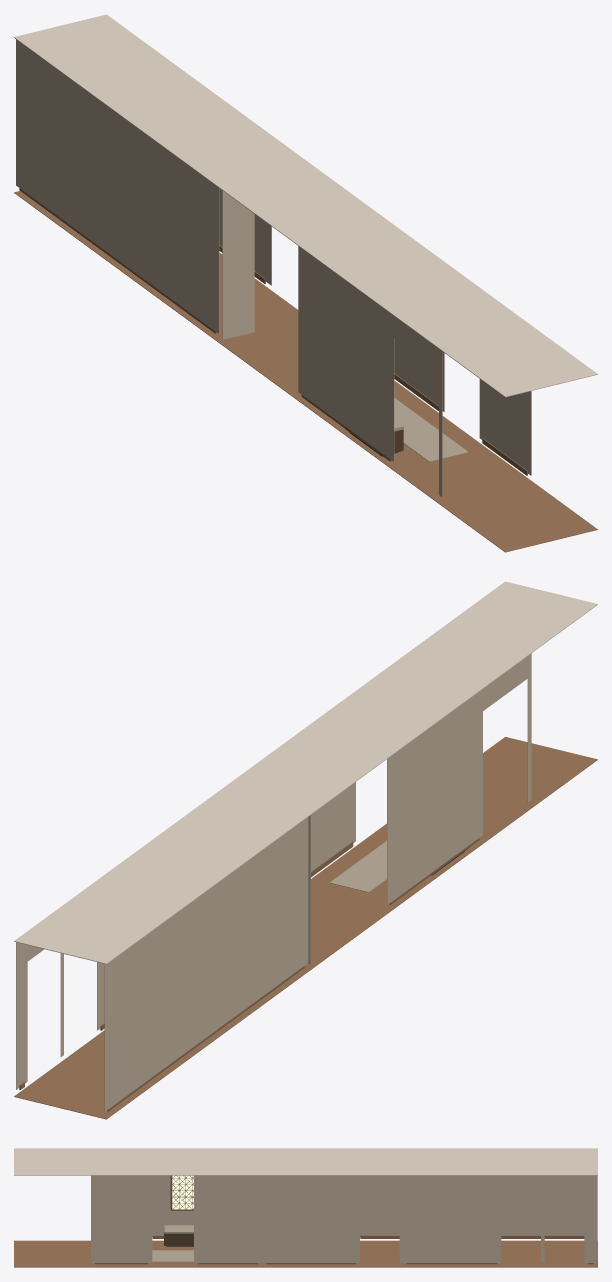
File: corridor-3.glb
3 views of the same model, one above another, from view 1: azimuth 30°, elevation 25°; view 2: azimuth 150°, elevation 25°; view 3: azimuth 270°, elevation 25° (orthographic). The views are drawn at different scales.
Visible parts, largest first — view 1: DESIGN | Entrance coordinated ceiling, DESIGN | Entrance paired wall finish, DESIGN | Entrance floor finish, DESIGN | Entrance paired wall finish.003, DESIGN | Arch approach finish, DESIGN | Entrance paired wall finish.013, DESIGN | Entrance quiet runner, DESIGN | Entrance paired wall finish.012, DESIGN | Entrance paired wall finish.006, DESIGN | Entrance paired wall finish.002; view 2: DESIGN | Entrance coordinated ceiling, DESIGN | Entrance paired wall finish, DESIGN | Entrance floor finish, DESIGN | Entrance paired wall finish.003, DESIGN | Entrance paired wall finish.012, DESIGN | Entrance paired wall finish.005, DESIGN | Entrance quiet runner, DESIGN | Entrance paired wall finish.002, DESIGN | Entrance paired wall finish.001; view 3: DESIGN | Entrance coordinated ceiling, DESIGN | Entrance paired wall finish.006, DESIGN | Entrance paired wall finish.009, DESIGN | Entrance floor finish, DESIGN | Entrance paired wall finish.012, DESIGN | Entrance paired wall finish, DESIGN | Entrance paired wall finish.013, DESIGN | Entrance paired wall finish.003, DESIGN | Entrance paired wall finish.005, DESIGN | Kumiko opal diffuser, DESIGN | Entrance paired wall finish.007, DESIGN | Entrance paired wall finish.010 (+8 smaller).
Part boxes in pixels (x1=…): DESIGN | Entrance coordinated ceiling: x1=14, y1=14, x2=597, y2=397; DESIGN | Entrance paired wall finish: x1=16, y1=39, x2=219, y2=333; DESIGN | Entrance floor finish: x1=14, y1=191, x2=597, y2=552; DESIGN | Entrance paired wall finish.003: x1=298, y1=246, x2=394, y2=461; DESIGN | Arch approach finish: x1=222, y1=190, x2=254, y2=339; DESIGN | Entrance paired wall finish.013: x1=479, y1=379, x2=531, y2=475; DESIGN | Entrance quiet runner: x1=394, y1=398, x2=468, y2=461; DESIGN | Entrance paired wall finish.012: x1=394, y1=339, x2=444, y2=411; DESIGN | Entrance paired wall finish.006: x1=219, y1=188, x2=268, y2=283; DESIGN | Entrance paired wall finish.002: x1=394, y1=316, x2=438, y2=370; DESIGN | Entrance coordinated ceiling: x1=14, y1=581, x2=597, y2=964; DESIGN | Entrance paired wall finish: x1=104, y1=817, x2=308, y2=1111; DESIGN | Entrance floor finish: x1=14, y1=737, x2=597, y2=1119; DESIGN | Entrance paired wall finish.003: x1=387, y1=689, x2=482, y2=904; DESIGN | Entrance paired wall finish.012: x1=311, y1=782, x2=355, y2=871; DESIGN | Entrance paired wall finish.005: x1=16, y1=942, x2=27, y2=1089; DESIGN | Entrance quiet runner: x1=329, y1=841, x2=386, y2=892; DESIGN | Entrance paired wall finish.002: x1=483, y1=656, x2=527, y2=710; DESIGN | Entrance paired wall finish.001: x1=527, y1=653, x2=531, y2=801; DESIGN | Entrance coordinated ceiling: x1=14, y1=1148, x2=597, y2=1175; DESIGN | Entrance paired wall finish.006: x1=402, y1=1175, x2=501, y2=1262; DESIGN | Entrance paired wall finish.009: x1=262, y1=1175, x2=359, y2=1262; DESIGN | Entrance floor finish: x1=14, y1=1240, x2=597, y2=1267; DESIGN | Entrance paired wall finish.012: x1=194, y1=1175, x2=262, y2=1262; DESIGN | Entrance paired wall finish: x1=360, y1=1176, x2=584, y2=1236; DESIGN | Entrance paired wall finish.013: x1=91, y1=1175, x2=152, y2=1262; DESIGN | Entrance paired wall finish.003: x1=152, y1=1175, x2=193, y2=1236; DESIGN | Entrance paired wall finish.005: x1=584, y1=1175, x2=597, y2=1262; DESIGN | Kumiko opal diffuser: x1=172, y1=1175, x2=193, y2=1209; DESIGN | Entrance paired wall finish.007: x1=501, y1=1175, x2=540, y2=1191; DESIGN | Entrance paired wall finish.010: x1=360, y1=1175, x2=399, y2=1191.
Size of the model in its own units: 1.7 by 2.73 by 15.61.
